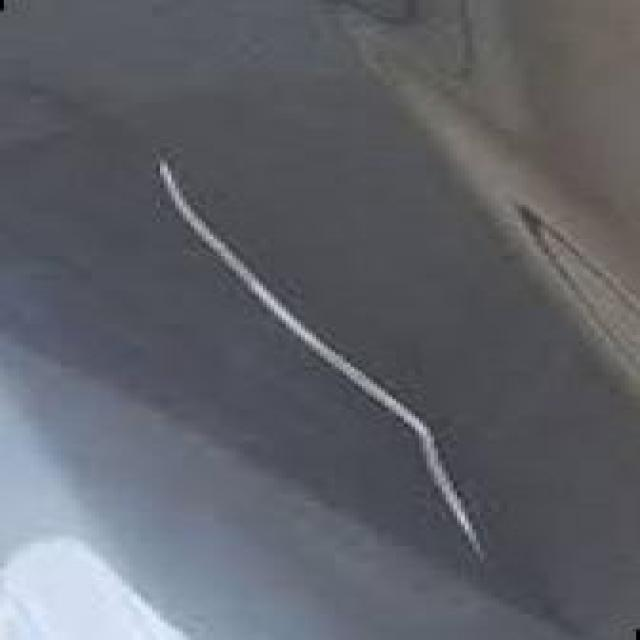scratch: (139, 145, 516, 582)
